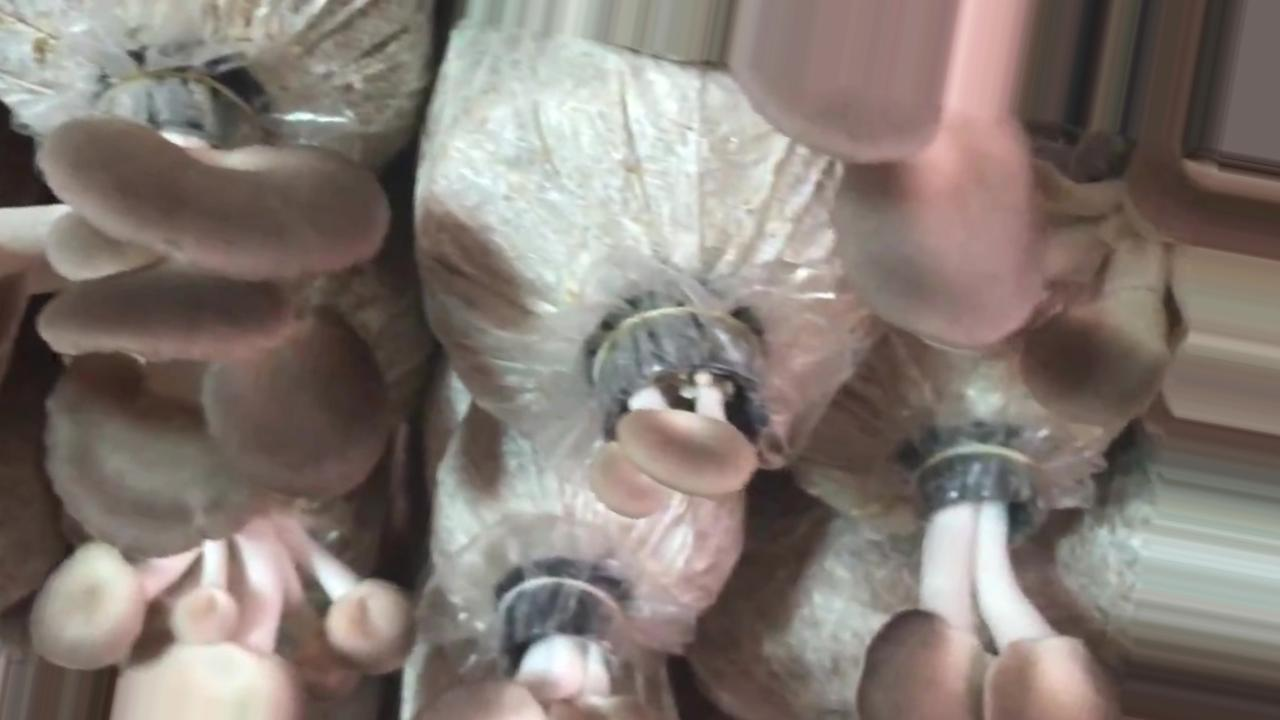nam: (46, 82, 392, 560), (730, 64, 1163, 425), (35, 516, 414, 720), (865, 449, 1110, 720), (589, 314, 768, 518), (436, 571, 657, 720)
